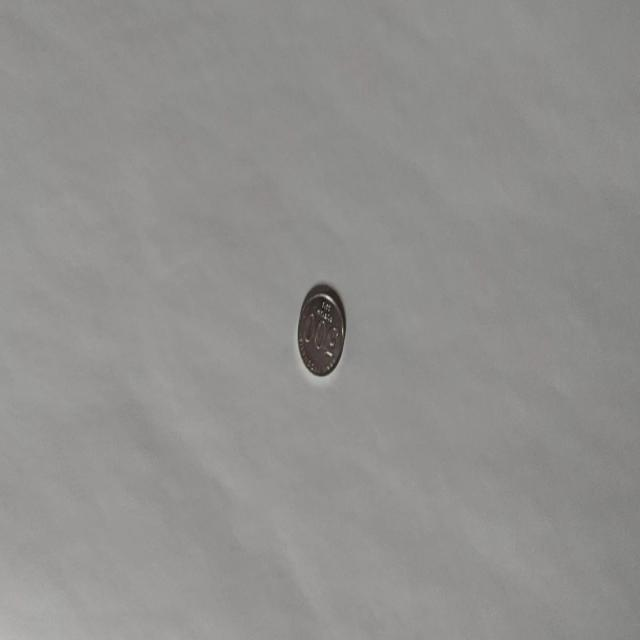lima ratus rupiah: (296, 282, 346, 378)
